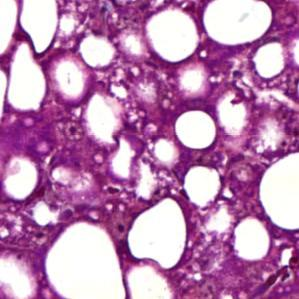steatosis: (127, 200, 198, 270), (145, 8, 199, 64), (225, 214, 273, 263), (172, 105, 217, 152), (183, 168, 226, 206)
